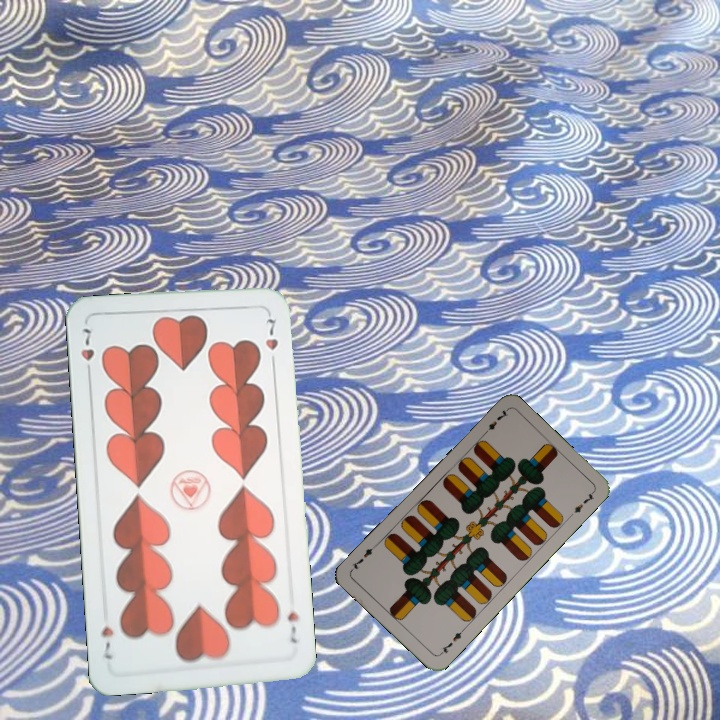E7: (478, 406, 511, 438), (436, 625, 467, 658)
H7: (76, 324, 97, 380), (283, 607, 301, 646)
